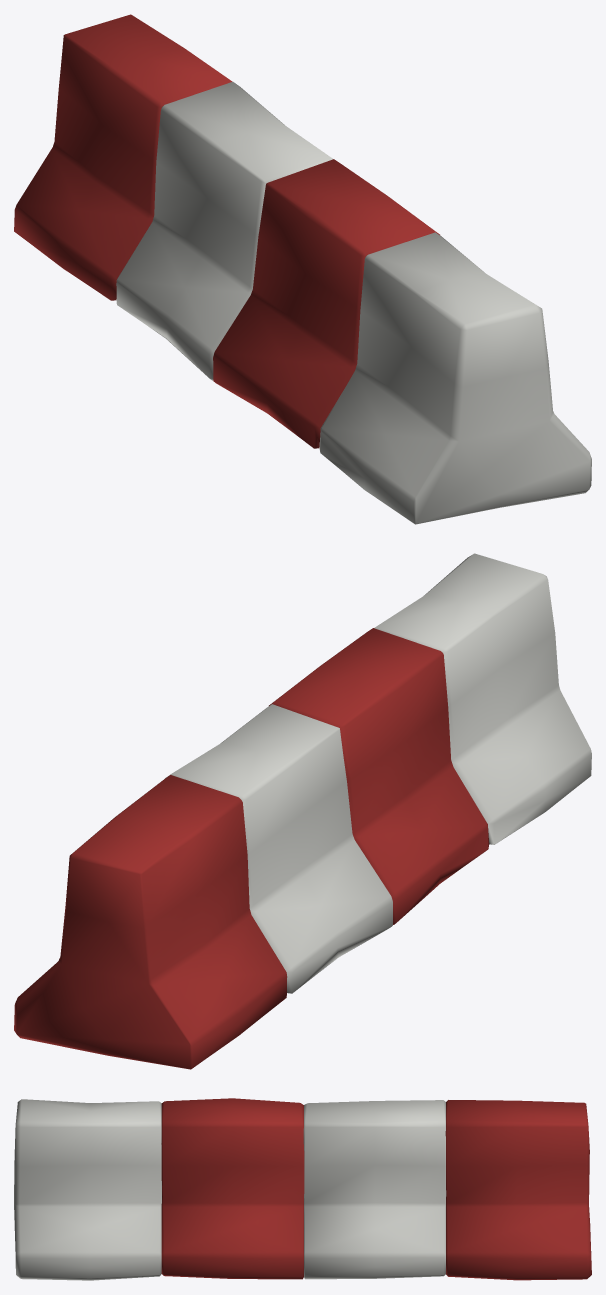
The model's file is safety_barrier.glb.
3 views of the same model, one above another, from view 1: azimuth 30°, elevation 25°; view 2: azimuth 150°, elevation 25°; view 3: azimuth 270°, elevation 25° (orthographic). The views are drawn at different scales.
Parts seen in each view (by area): view 1: Body.009; view 2: Body.009; view 3: Body.009.
Part boxes in pixels (bbox=[...]): Body.009: bbox=[14, 14, 591, 524]; Body.009: bbox=[14, 553, 591, 1069]; Body.009: bbox=[14, 1098, 591, 1280].
Bounding box in the file's own units: 0.76 × 0.82 × 3.
